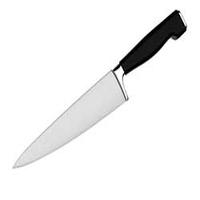knife: (10, 11, 183, 173)
